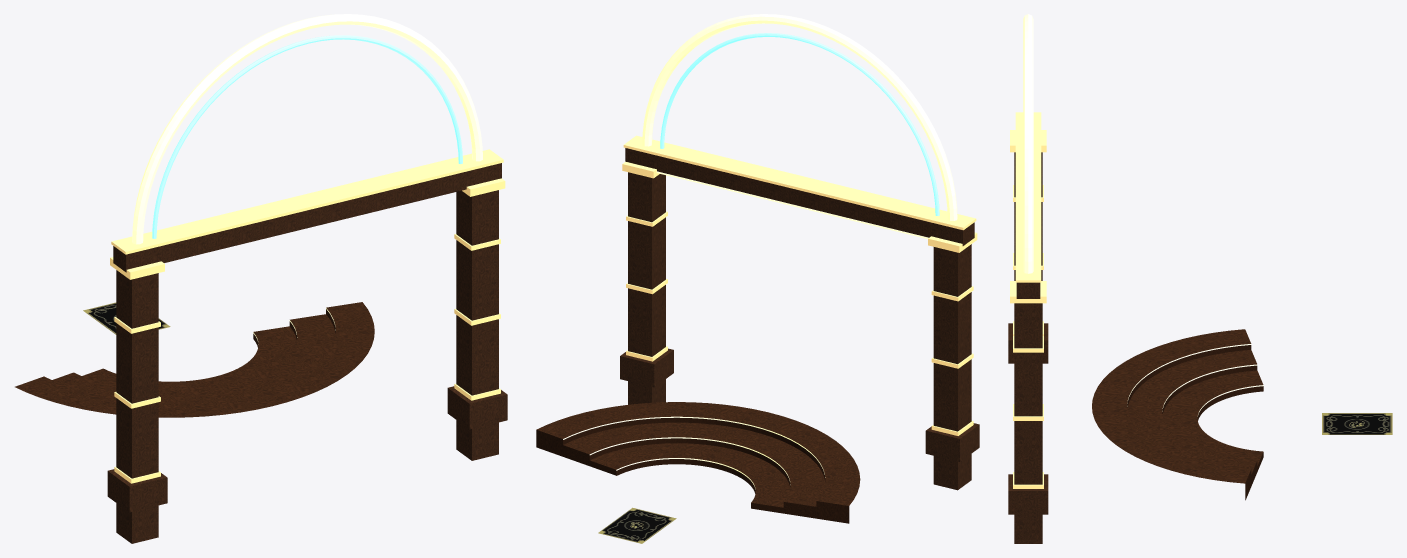
The model's file is mwm_photostage.glb.
3 renders of one model, left to right at view 1: azimuth 30°, elevation 25°; view 2: azimuth 150°, elevation 25°; view 3: azimuth 270°, elevation 25°, orthographic. The views are drawn at different scales.
Visible parts, largest first — view 1: walnut, riser, gold, goldglow, tealglow, emblem; view 2: walnut, riser, gold, goldglow, riserside, tealglow, emblem; view 3: riser, walnut, gold, goldglow, riserside, emblem.
Part boxes in pixels (<box>): walnut: <box>107,163,507,543</box>; riser: <box>15,302,374,417</box>; gold: <box>110,149,505,483</box>; goldglow: <box>132,14,482,344</box>; tealglow: <box>152,35,462,238</box>; emblem: <box>83,302,170,334</box>; walnut: <box>620,148,979,490</box>; riser: <box>536,402,860,507</box>; gold: <box>622,135,977,435</box>; goldglow: <box>563,14,957,489</box>; riserside: <box>536,417,849,523</box>; tealglow: <box>660,33,939,215</box>; emblem: <box>598,507,676,543</box>; riser: <box>1092,329,1263,483</box>; walnut: <box>1008,152,1048,543</box>; gold: <box>1010,112,1046,488</box>; goldglow: <box>1023,14,1263,416</box>; riserside: <box>1127,345,1263,500</box>; emblem: <box>1322,413,1392,434</box>.
Bounding box in the file's own units: 16.9 × 20.27 × 16.35.
Materials: 7 (4 with a texture image).
